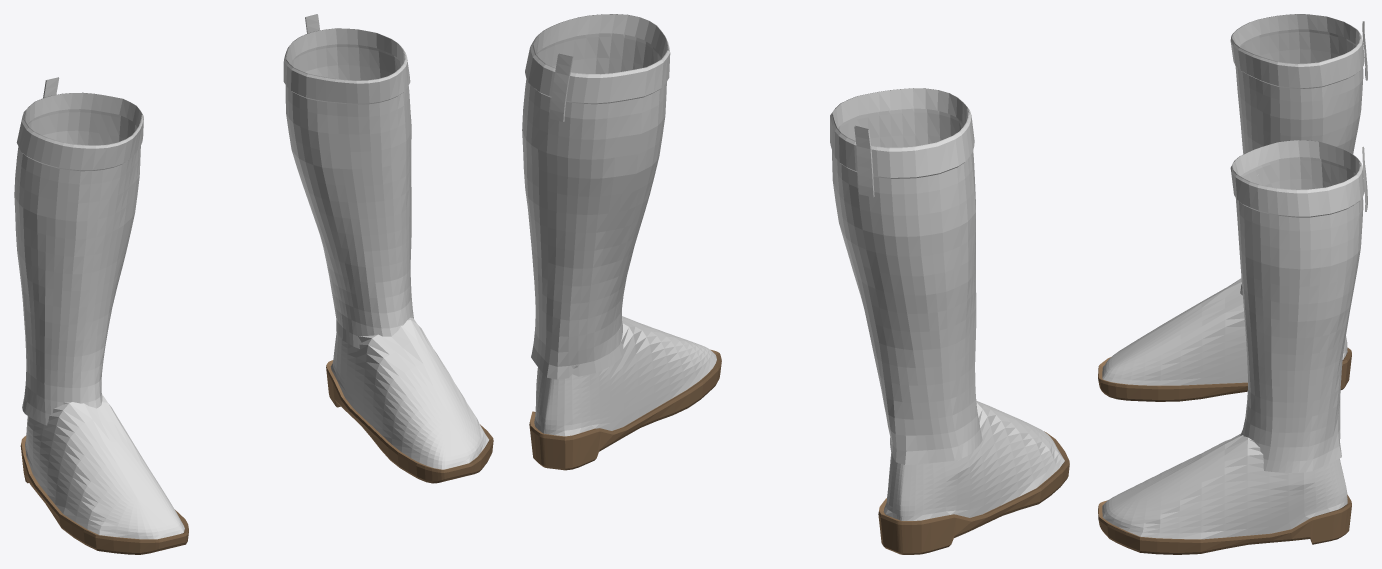
File: ewb_shoe_highboots.glb
3 renders of one model, left to right at view 1: azimuth 30°, elevation 25°; view 2: azimuth 150°, elevation 25°; view 3: azimuth 270°, elevation 25°, orthographic. The views are drawn at different scales.
Visible parts, largest first — view 1: ewb_shoe_highboots; view 2: ewb_shoe_highboots; view 3: ewb_shoe_highboots.
Part boxes in pixels (<box>): ewb_shoe_highboots: <box>14,14,493,554</box>; ewb_shoe_highboots: <box>522,14,1069,554</box>; ewb_shoe_highboots: <box>1098,14,1367,554</box>.
Bounding box in the file's own units: 0.5564 × 0.4846 × 0.3199.
